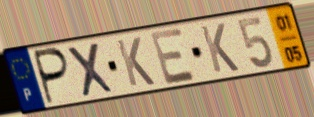5: (235, 14, 275, 70)
E: (148, 25, 199, 87)
K: (114, 35, 158, 89), (198, 21, 242, 75)
P: (32, 46, 72, 107)
X: (64, 40, 117, 100)
